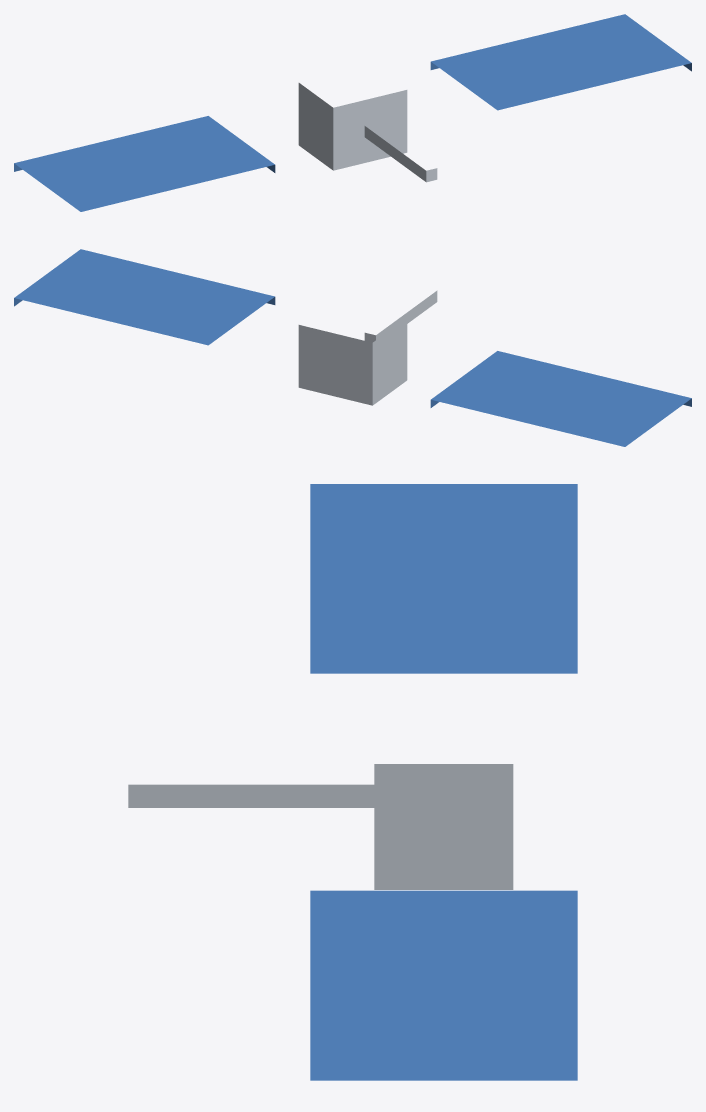
File: orbitwatch-satellite.gltf
3 views of the same model, one above another, from view 1: azimuth 30°, elevation 25°; view 2: azimuth 150°, elevation 25°; view 3: azimuth 270°, elevation 25° (orthographic). The views are drawn at different scales.
Visible parts, largest first — view 1: Starboard solar array, Port solar array, Satellite bus, Communications antenna; view 2: Starboard solar array, Port solar array, Satellite bus, Communications antenna; view 3: Starboard solar array, Port solar array, Satellite bus, Communications antenna.
Boxes of the visible parts, x1,y1,x2,y2 form: Starboard solar array: [430, 14, 691, 110]; Port solar array: [14, 116, 275, 211]; Satellite bus: [298, 83, 407, 170]; Communications antenna: [364, 126, 437, 182]; Starboard solar array: [14, 249, 275, 345]; Port solar array: [430, 351, 691, 446]; Satellite bus: [298, 318, 407, 405]; Communications antenna: [364, 290, 437, 342]; Starboard solar array: [310, 890, 577, 1080]; Port solar array: [310, 484, 577, 673]; Satellite bus: [374, 764, 513, 889]; Communications antenna: [128, 784, 374, 807].
Bounding box in the file's own units: 6.6 × 0.65 × 2.1.
